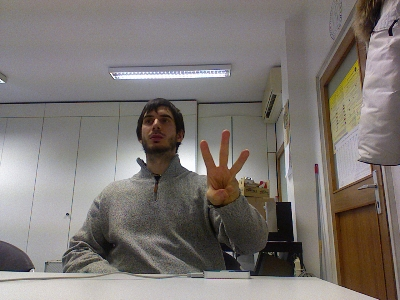三分: (199, 129, 249, 207)
